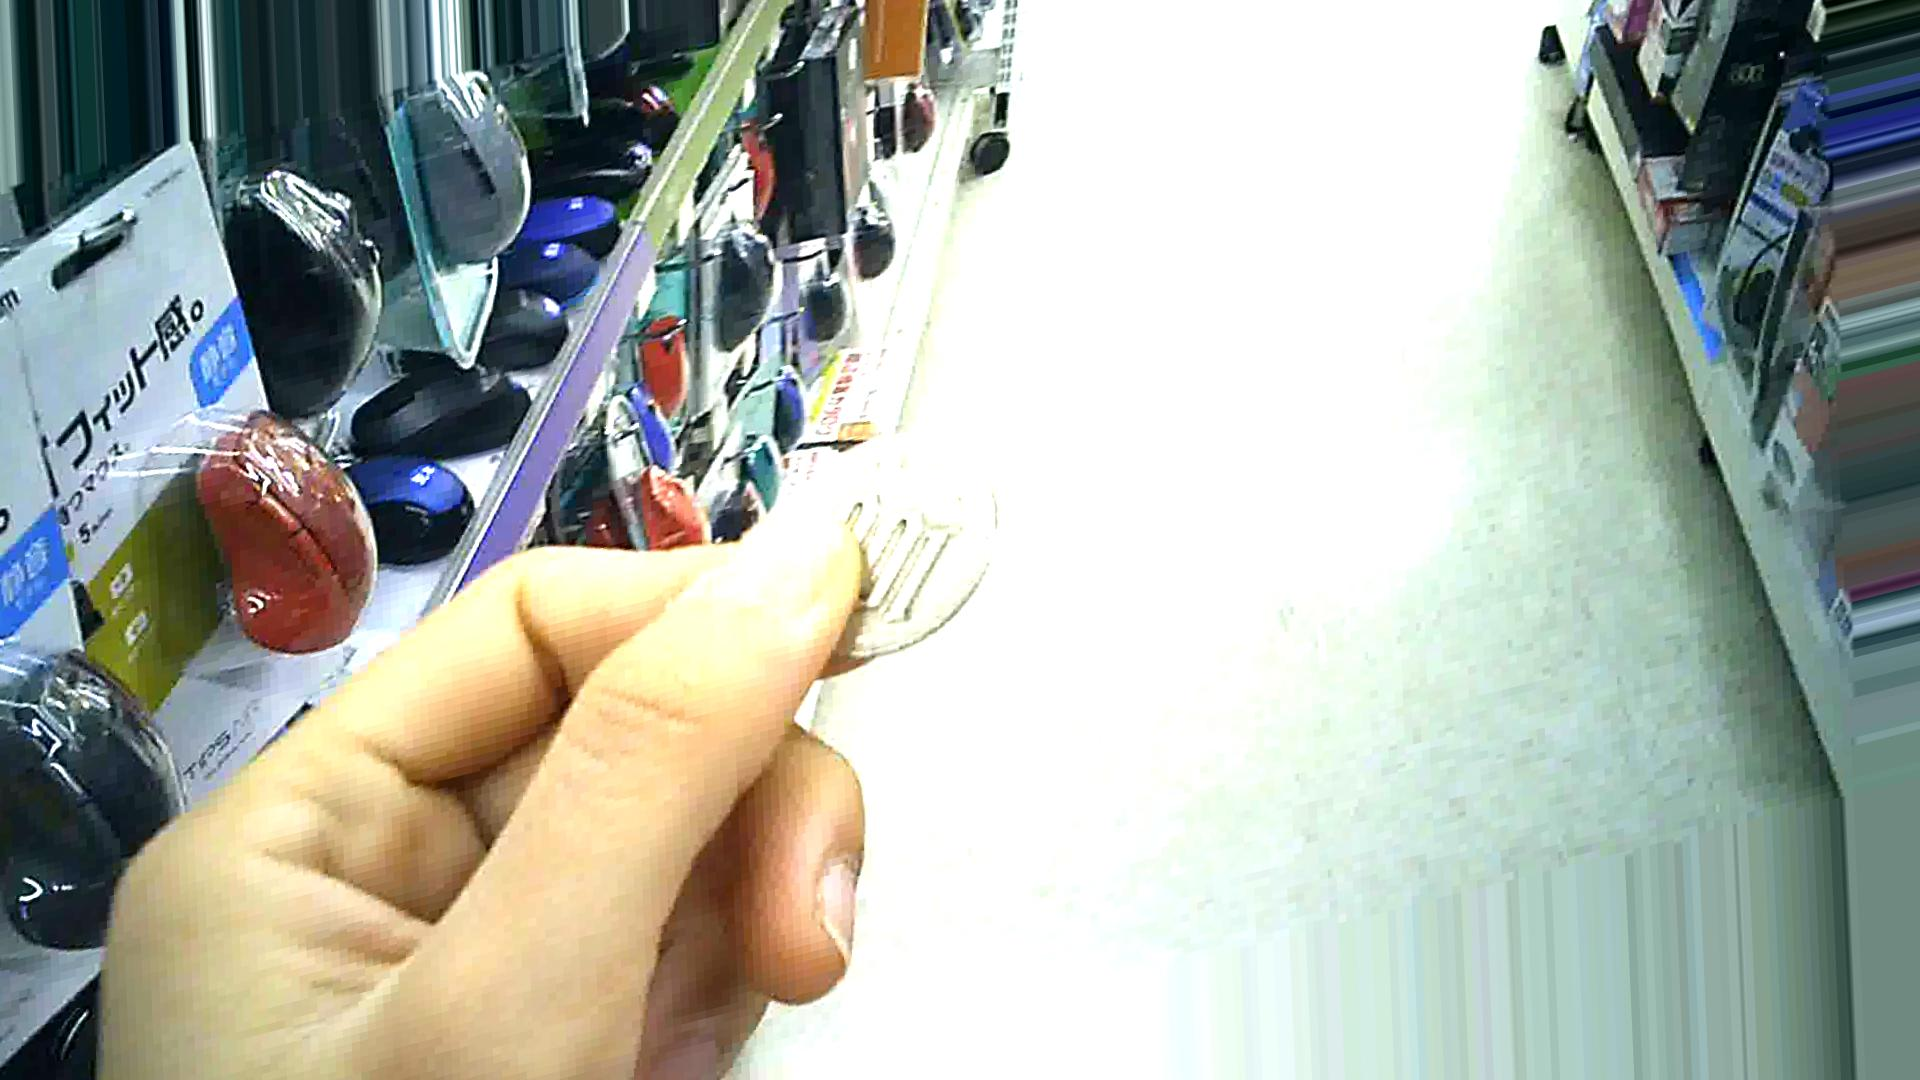100 Yen: (778, 430, 1009, 658)
